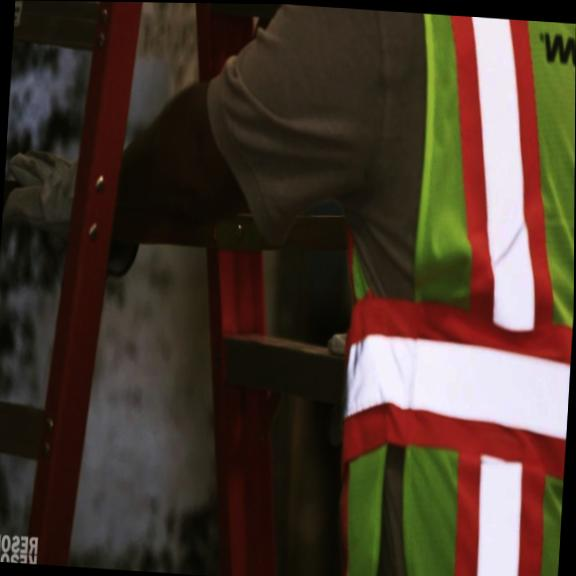safety_vest: (323, 8, 576, 576)
